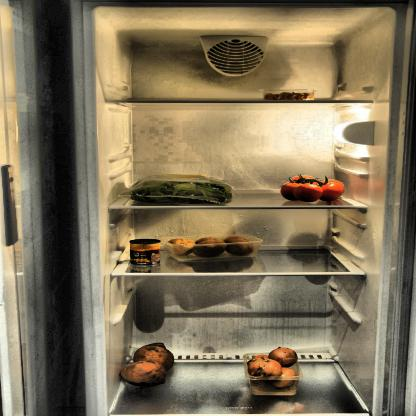corn: (128, 237, 164, 268)
onion: (245, 347, 301, 398)
potato: (168, 233, 267, 262)
shrimp: (262, 89, 318, 104)
spinach: (118, 173, 235, 205)
sweet_potato: (119, 341, 178, 388)
tomato: (277, 174, 353, 206)
